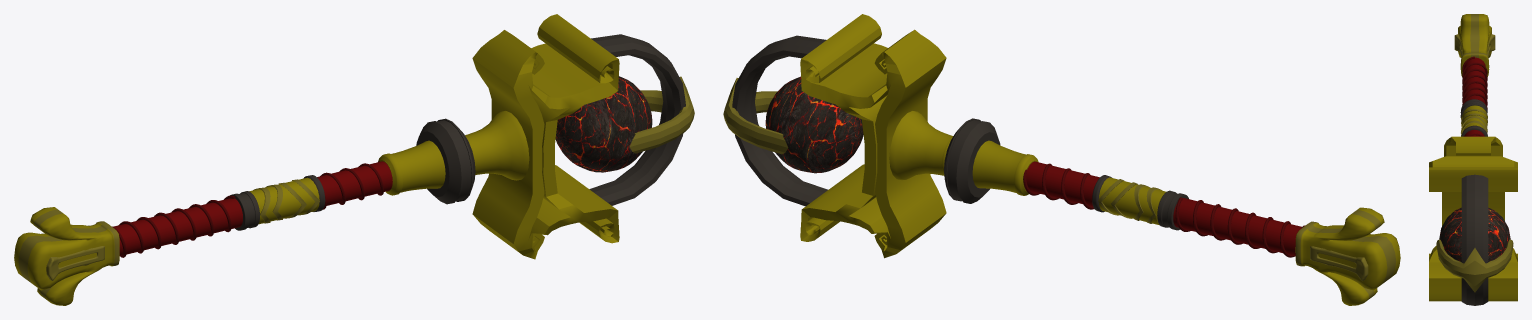
The model's file is artifact3.fbx.
The picture shows the model from 3 angles, left to right: view 1: azimuth 30°, elevation 25°; view 2: azimuth 150°, elevation 25°; view 3: azimuth 270°, elevation 25°; orthographic projection. The views are drawn at different scales.
Visible parts, largest first — view 1: Sidearch, Sidearch1, Bottom, Middlemain, Arti3, top_cir, Arti8, Arti9, Arti7, topmidcir, Arti4, pHelix1 (+3 smaller); view 2: Sidearch, Sidearch1, Middlemain, Bottom, Arti3, top_cir, Arti8, Arti9, Arti7, topmidcir, Arti4, pHelix1 (+3 smaller); view 3: Sidearch, top_cir, Sidearch1, Middlemain, topmidcir, Bottom, Arti3, pHelix1, Arti4, Bottom1, Arti6, Arti5 (+4 smaller).
Boxes of the visible parts, left/top/right/bottom form: Sidearch: left=472, top=14, right=619, bottom=161; Sidearch1: left=472, top=157, right=619, bottom=259; Bottom: left=14, top=207, right=119, bottom=305; Middlemain: left=555, top=76, right=652, bottom=172; Arti3: left=113, top=161, right=392, bottom=255; top_cir: left=589, top=34, right=685, bottom=205; Arti8: left=465, top=111, right=529, bottom=180; Arti9: left=416, top=118, right=475, bottom=204; Arti7: left=378, top=140, right=445, bottom=195; topmidcir: left=629, top=76, right=694, bottom=153; Arti4: left=249, top=177, right=319, bottom=224; pHelix1: left=112, top=195, right=235, bottom=257; Sidearch: left=800, top=14, right=946, bottom=160; Sidearch1: left=800, top=156, right=946, bottom=258; Middlemain: left=765, top=76, right=863, bottom=173; Bottom: left=1295, top=207, right=1400, bottom=305; Arti3: left=1026, top=161, right=1301, bottom=256; top_cir: left=732, top=35, right=828, bottom=206; Arti8: left=889, top=111, right=953, bottom=180; Arti9: left=944, top=118, right=1000, bottom=203; Arti7: left=972, top=140, right=1038, bottom=195; topmidcir: left=723, top=78, right=788, bottom=154; Arti4: left=1099, top=177, right=1166, bottom=225; pHelix1: left=1175, top=197, right=1304, bottom=257; Sidearch: left=1429, top=136, right=1517, bottom=215; top_cir: left=1461, top=174, right=1488, bottom=305; Sidearch1: left=1429, top=216, right=1517, bottom=301; Middlemain: left=1439, top=207, right=1510, bottom=261; topmidcir: left=1436, top=239, right=1513, bottom=292; Bottom: left=1458, top=14, right=1491, bottom=76; Arti3: left=1464, top=57, right=1485, bottom=136; pHelix1: left=1462, top=56, right=1487, bottom=109; Arti4: left=1462, top=105, right=1487, bottom=132; Bottom1: left=1454, top=34, right=1495, bottom=57; Arti6: left=1460, top=99, right=1487, bottom=117; Arti5: left=1461, top=125, right=1487, bottom=136.
Bounding box in the file's own units: 8.42 × 2.5 × 1.35.
Materials: 6 (1 with a texture image).
